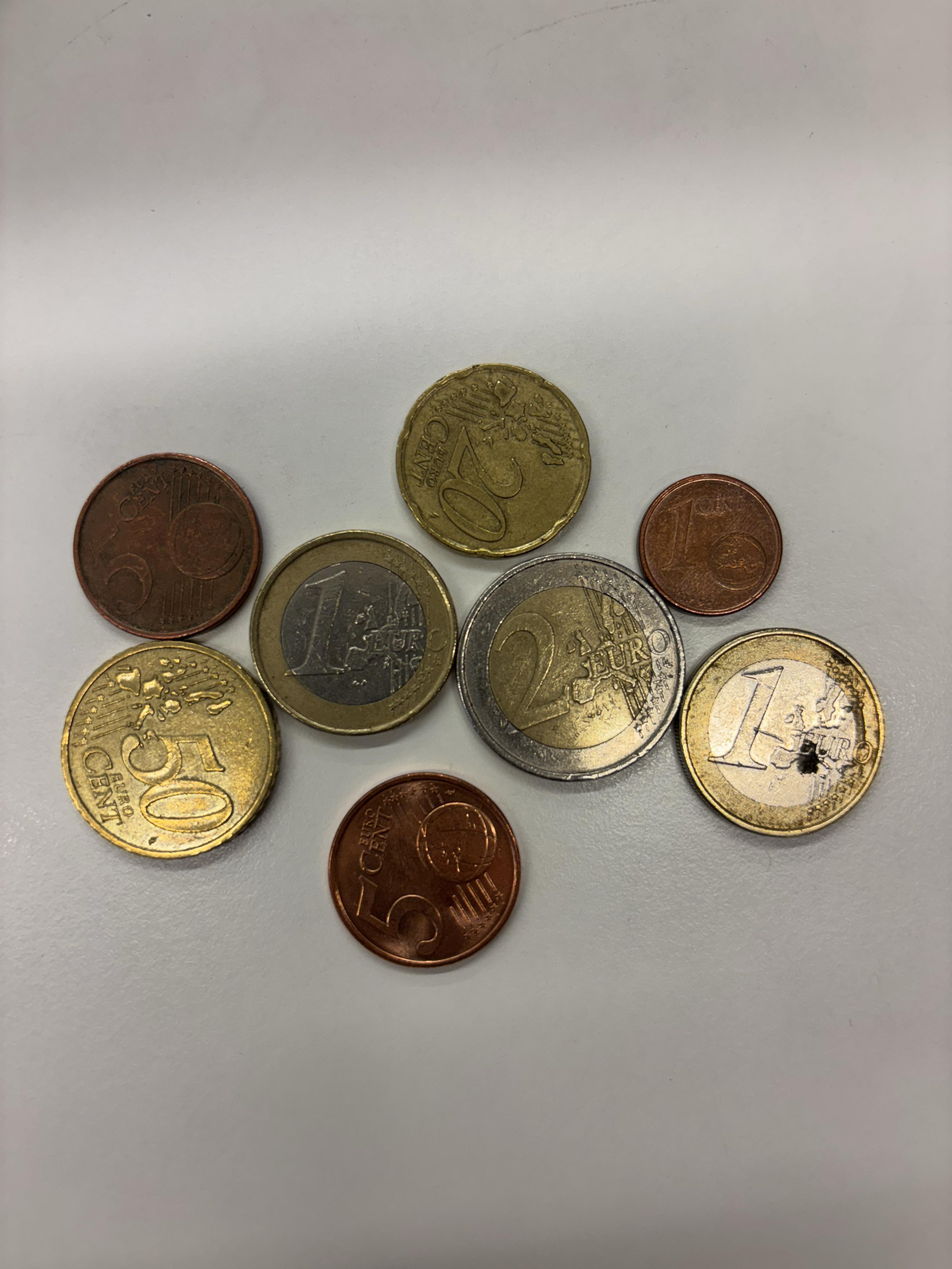1 cent: (638, 474, 783, 617)
1 euro: (679, 629, 886, 838), (250, 531, 458, 736)
2 euro: (456, 554, 686, 781)
20 cent: (397, 359, 598, 558)
5 cent: (328, 773, 521, 968), (73, 454, 263, 640)
50 cent: (61, 642, 281, 859)
